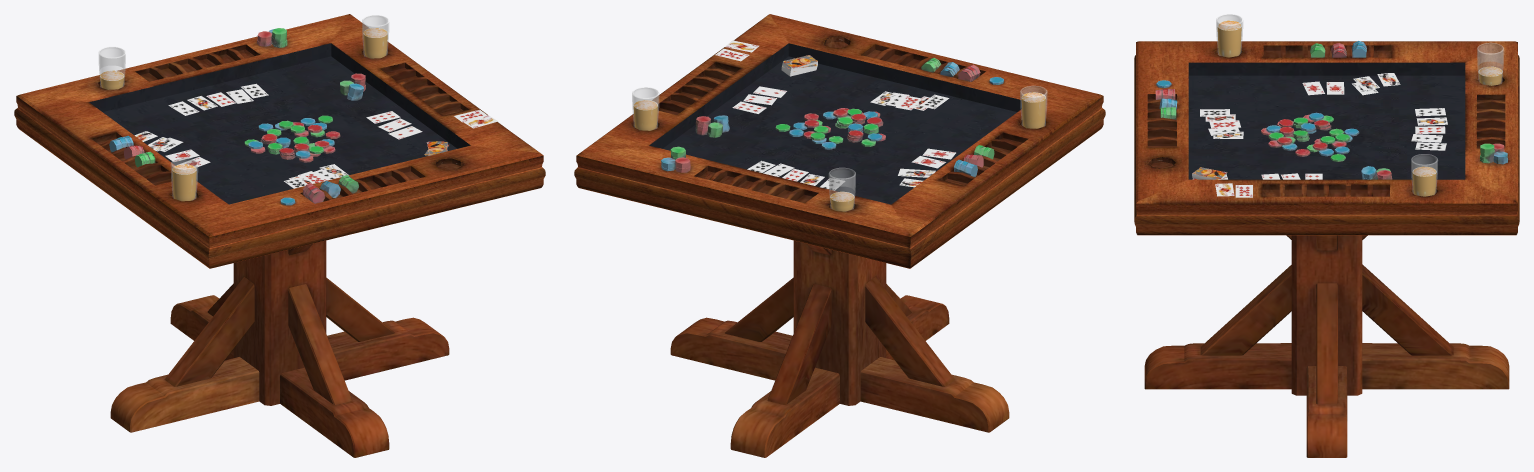
The picture shows the model from 3 angles, left to right: view 1: azimuth 30°, elevation 25°; view 2: azimuth 150°, elevation 25°; view 3: azimuth 270°, elevation 25°; orthographic projection.
Parts seen in each view (by area): view 1: Object_7, Object_4, Object_6, Object_2, Object_5, Object_3; view 2: Object_7, Object_4, Object_6, Object_2, Object_5, Object_3; view 3: Object_7, Object_4, Object_6, Object_2, Object_5, Object_3.
Part boxes in pixels (x1,y1,x2,y2): Object_7: (14,14,545,457); Object_4: (89,43,470,204); Object_6: (109,28,365,205); Object_2: (134,83,497,188); Object_5: (99,15,388,200); Object_3: (100,28,387,201); Object_7: (574,14,1105,457); Object_4: (649,43,1021,204); Object_6: (661,58,1003,177); Object_2: (715,40,955,190); Object_5: (632,86,1047,211); Object_3: (633,92,1045,211); Object_7: (1134,41,1519,457); Object_4: (1188,62,1465,179); Object_6: (1155,41,1507,179); Object_2: (1192,73,1447,197); Object_5: (1159,14,1503,196); Object_3: (1217,20,1502,196).
Size of the model in its own units: 1.3 by 1.09 by 1.3.
6 materials, 5 textured.
